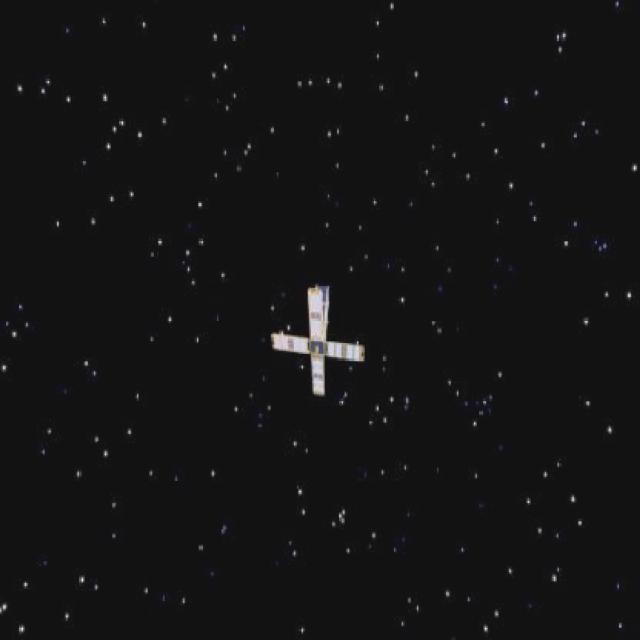satellite: (258, 275, 378, 400)
